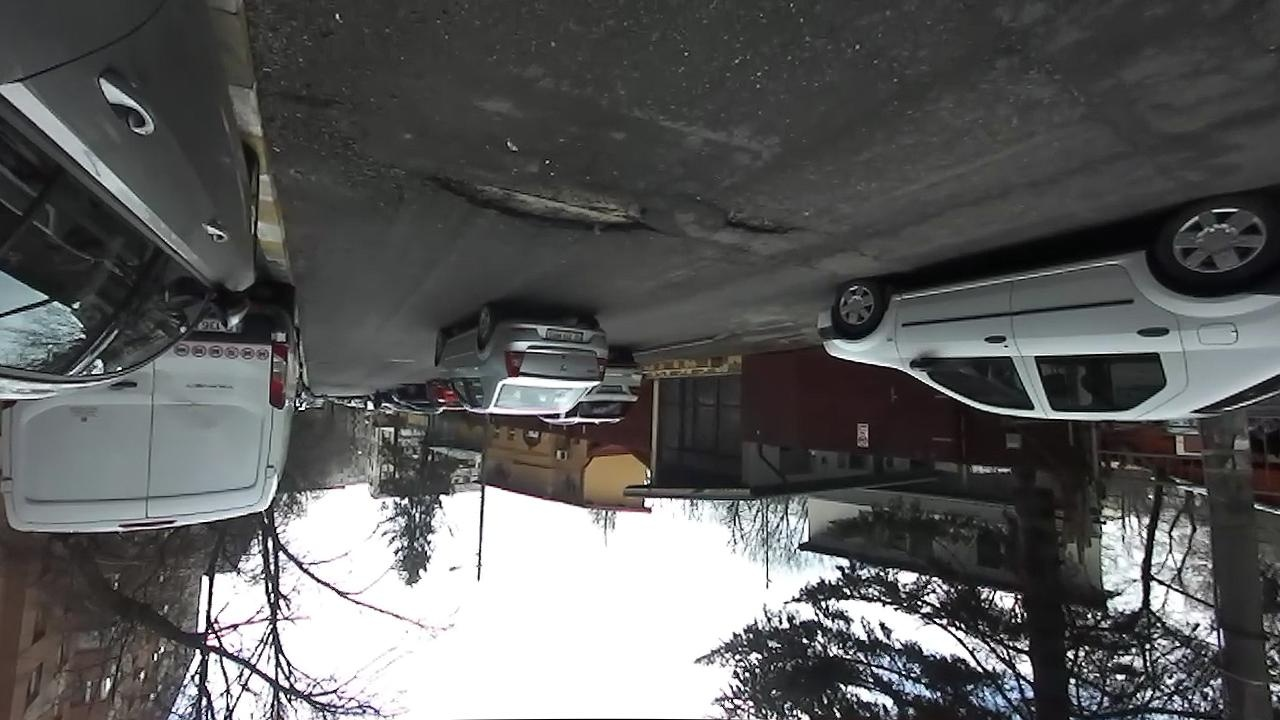pothole: (418, 168, 655, 238), (707, 201, 803, 241)
